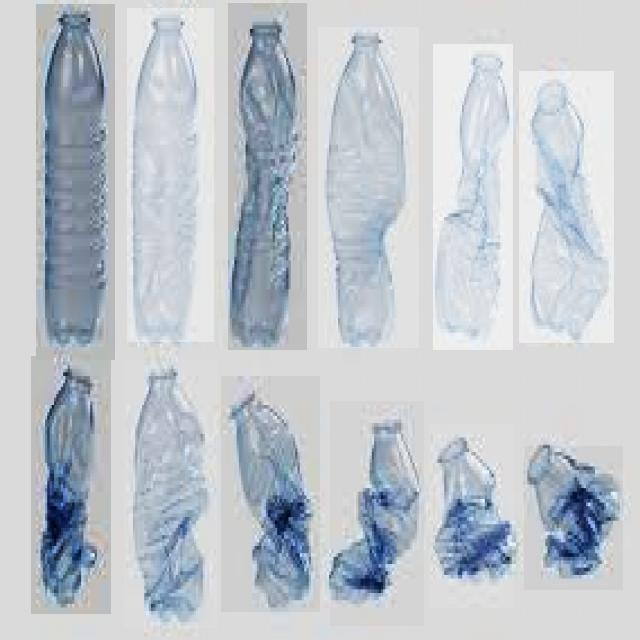BIODEGRADABLE: (318, 27, 419, 348), (127, 9, 215, 342), (36, 4, 115, 360), (228, 3, 307, 350), (520, 71, 616, 343), (124, 360, 218, 628), (433, 44, 513, 350), (221, 376, 320, 612), (330, 401, 424, 626), (31, 356, 111, 614), (430, 424, 516, 608), (524, 446, 623, 590)
